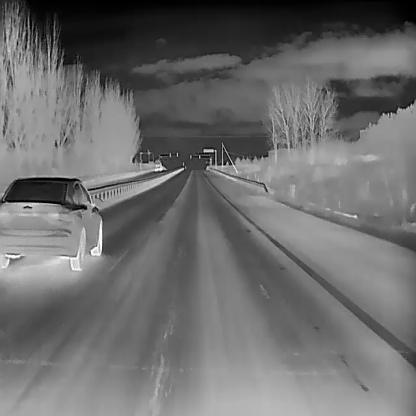car: (0, 174, 102, 271)
truck: (153, 158, 162, 170)
